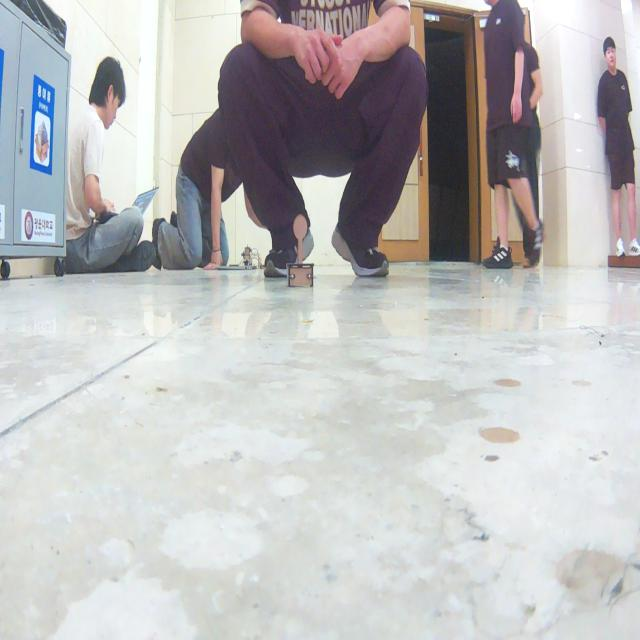target: (286, 213, 314, 287)
